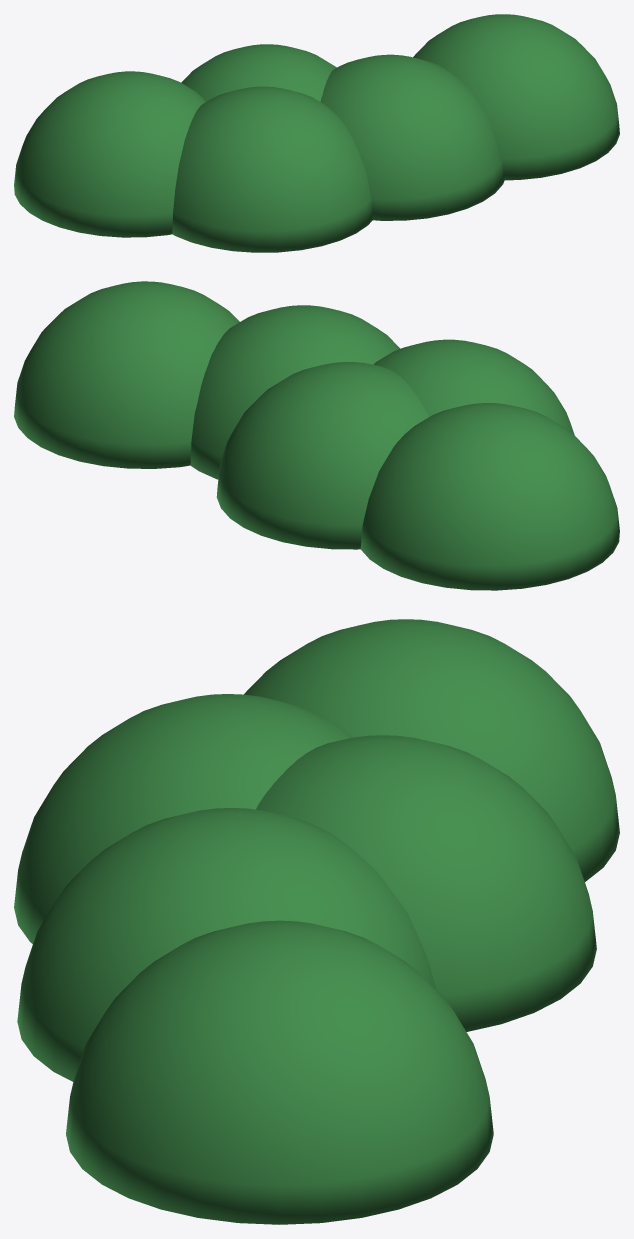
Rendered from Sbrub.glb.
3 views of the same model, one above another, from view 1: azimuth 30°, elevation 25°; view 2: azimuth 150°, elevation 25°; view 3: azimuth 270°, elevation 25° (orthographic). The views are drawn at different scales.
Parts seen in each view (by area): view 1: Sphere.022; view 2: Sphere.022; view 3: Sphere.022.
Part boxes in pixels (x1,y1,x2,y2): Sphere.022: (14,14,619,252); Sphere.022: (14,281,619,590); Sphere.022: (14,619,619,1224).
Size of the model in its own units: 5.33 by 1 by 2.83.
